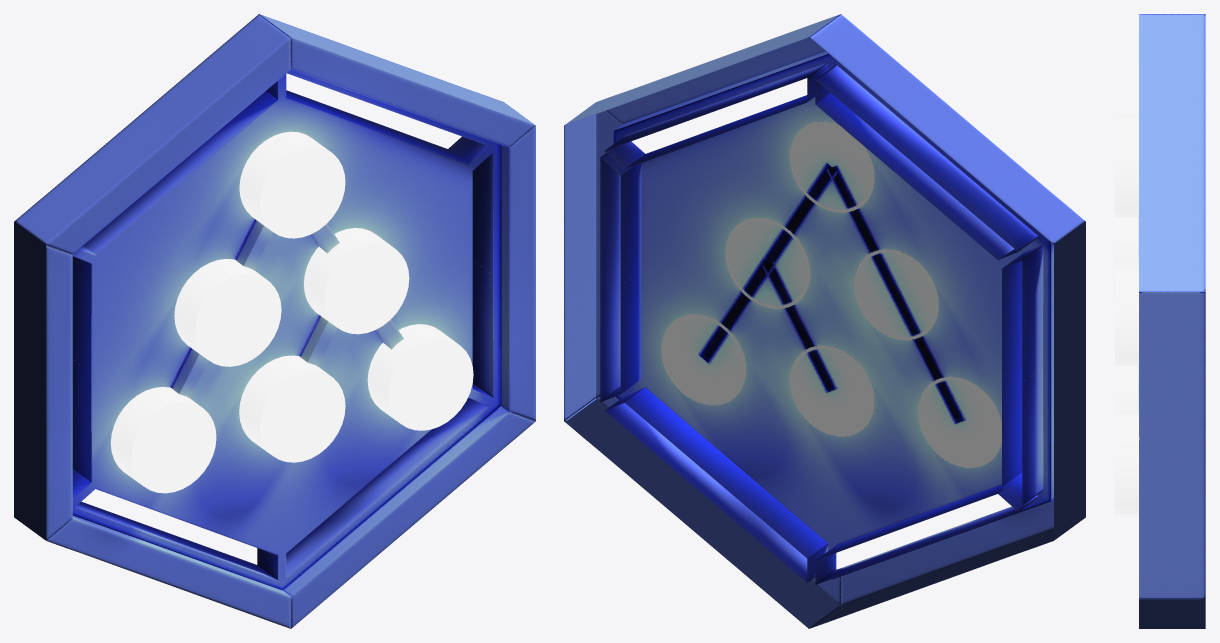
The model's file is binary_tree.glb.
3 renders of one model, left to right at view 1: azimuth 30°, elevation 25°; view 2: azimuth 150°, elevation 25°; view 3: azimuth 270°, elevation 25°, orthographic. The views are drawn at different scales.
Parts seen in each view (by area): view 1: Main-LR; view 2: Main-LR; view 3: Main-LR.
Part boxes in pixels (bbox=[...]): Main-LR: bbox=[14, 14, 535, 628]; Main-LR: bbox=[564, 14, 1085, 628]; Main-LR: bbox=[1114, 14, 1205, 628].
Bounding box in the file's own units: 11.44 × 13.21 × 1.78.
Materials: 2 (1 with a texture image).
